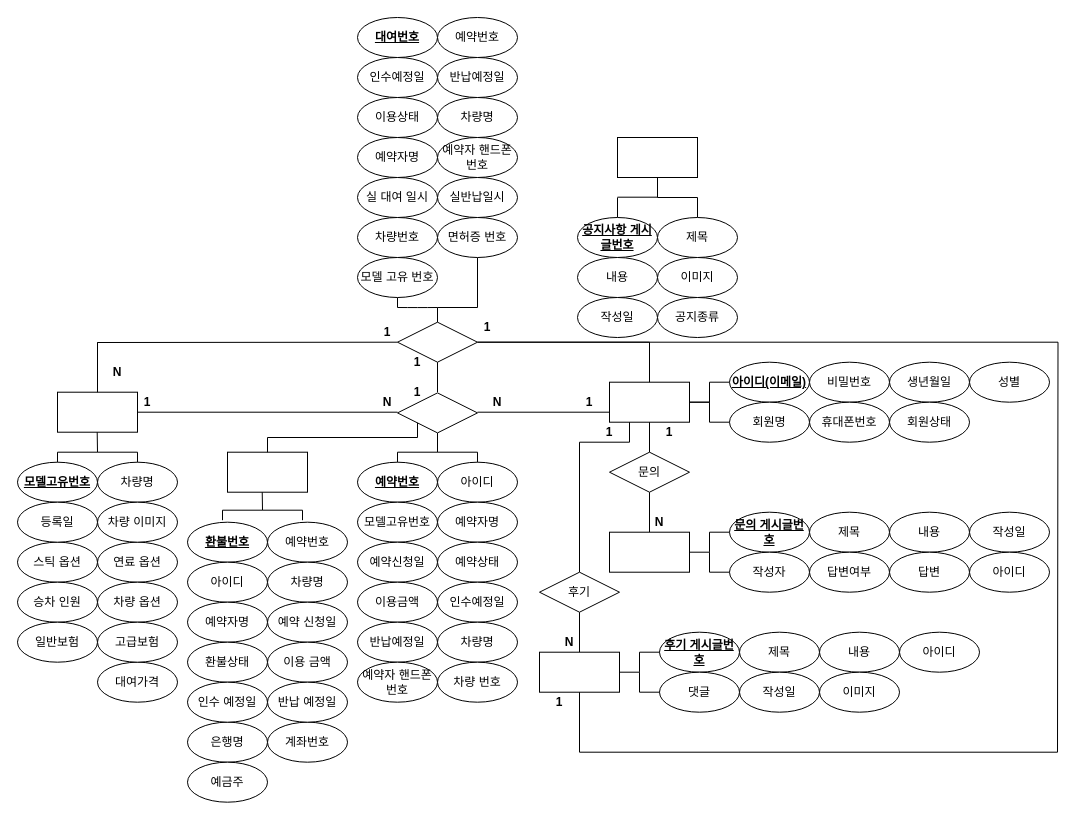
The diagram is 1077 pixels wide and 820 high, and some of its shapes have lost their labels. The shapes that lost their labels are listed below. From the top down, each one's box as (x1, y1, x2, y2) in pixels, then its label:
(616, 136, 698, 178): 공지사항
(396, 321, 478, 362): 인수/반납
(56, 391, 138, 432): 차량
(396, 392, 478, 433): 예약
(608, 381, 690, 422): 회원
(226, 451, 308, 492): 환불
(608, 531, 690, 572): 문의 게시판
(538, 651, 620, 692): 후기 게시판
